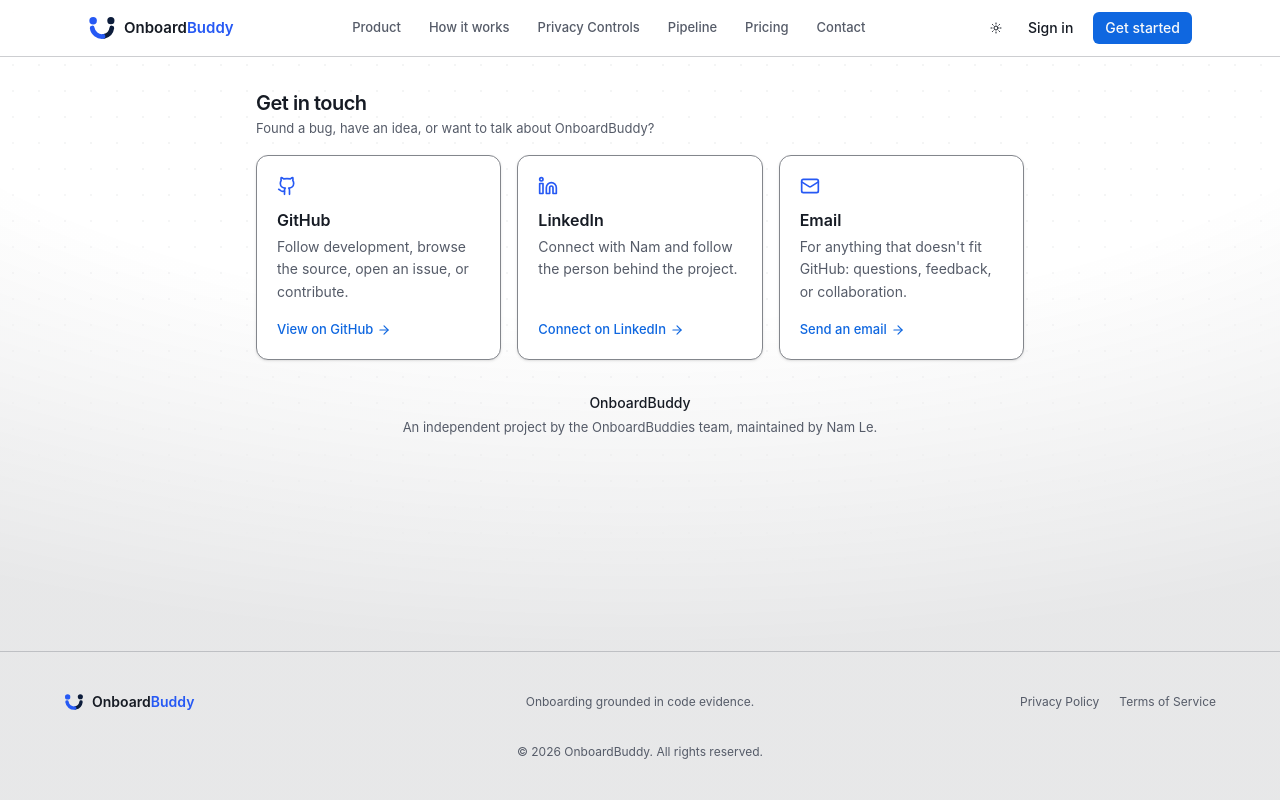
Test: ContactPage › copies the email and confirms with a toast
Click the button "Send an email" at (852, 330), box top-left (800, 320), bottom-right (905, 339)
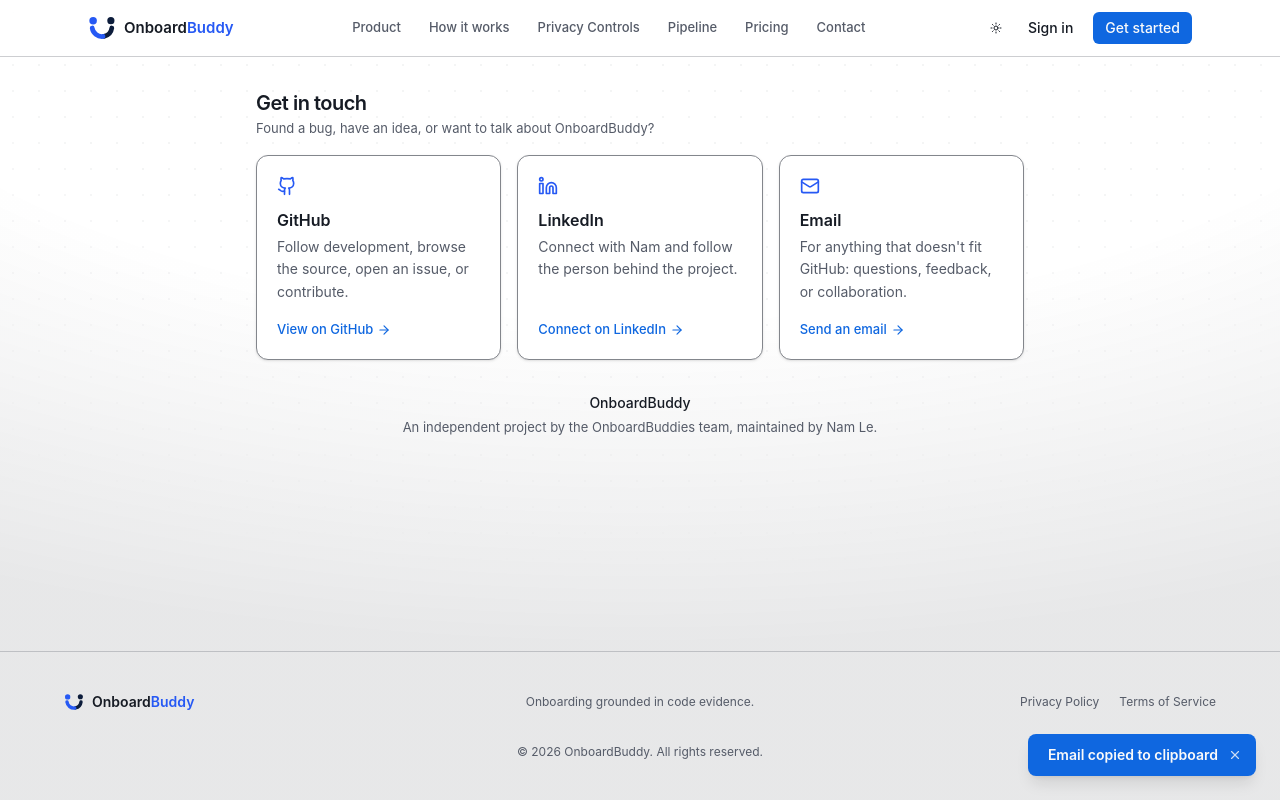
Now the message reads "Email copied to clipboard", box top-left (1048, 746), bottom-right (1218, 763)
